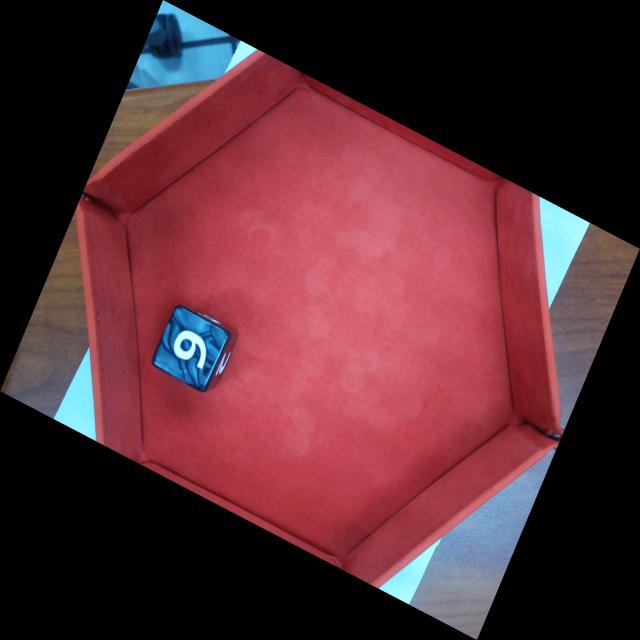dice: (150, 302, 233, 396)
